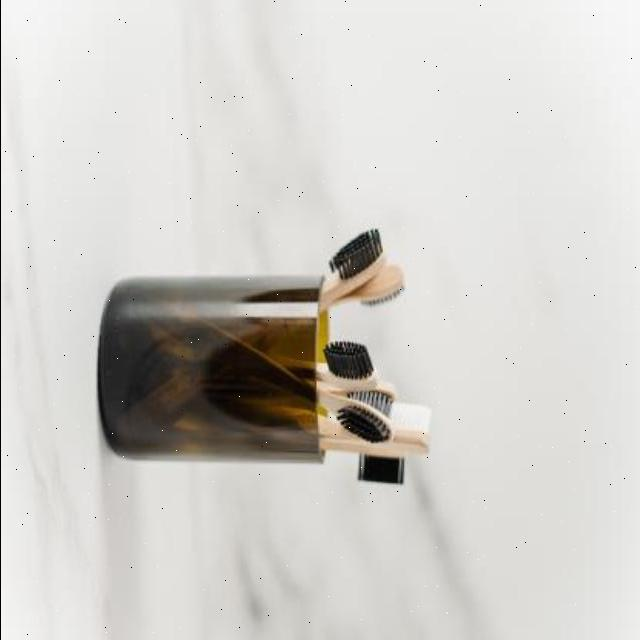toothbrush: (322, 393, 442, 471), (313, 220, 397, 314), (316, 376, 404, 440), (332, 256, 412, 316), (314, 334, 386, 386)
